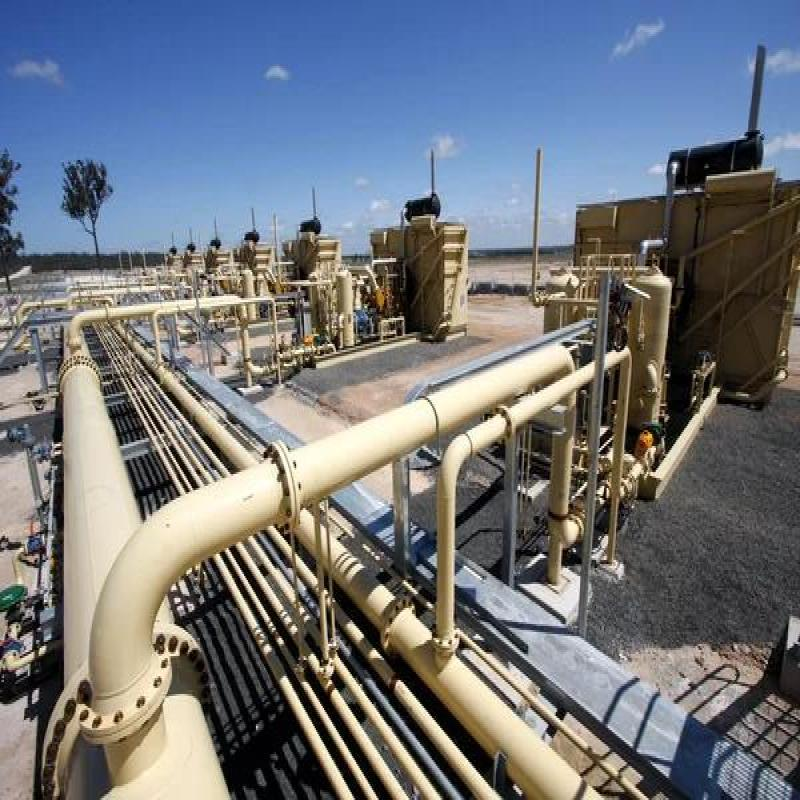Healthy: (59, 313, 647, 735)
